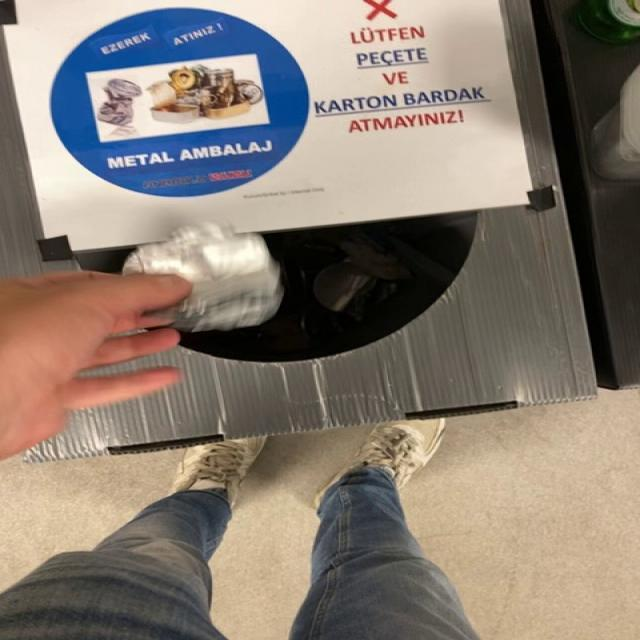Bin: (1, 0, 596, 462)
Metal: (123, 223, 283, 332)
